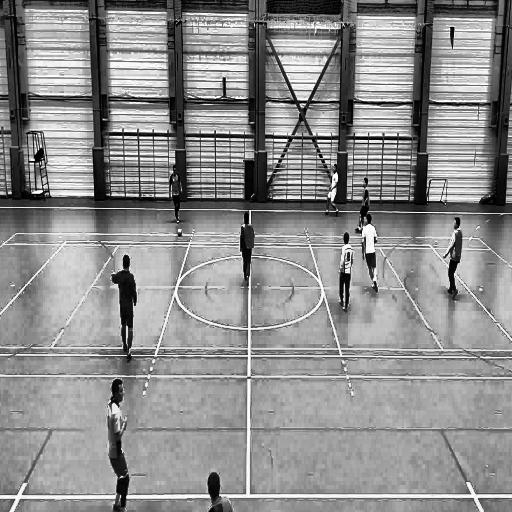ball: (176, 226, 183, 238)
player: (107, 378, 134, 512), (112, 254, 137, 365), (442, 216, 462, 303), (360, 214, 379, 294), (338, 230, 355, 314), (239, 204, 255, 289), (323, 163, 342, 218), (353, 174, 371, 232), (168, 163, 183, 225)
